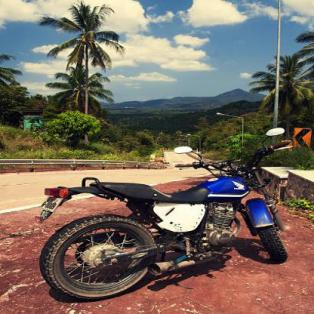Motocicleta: (31, 140, 294, 301)
